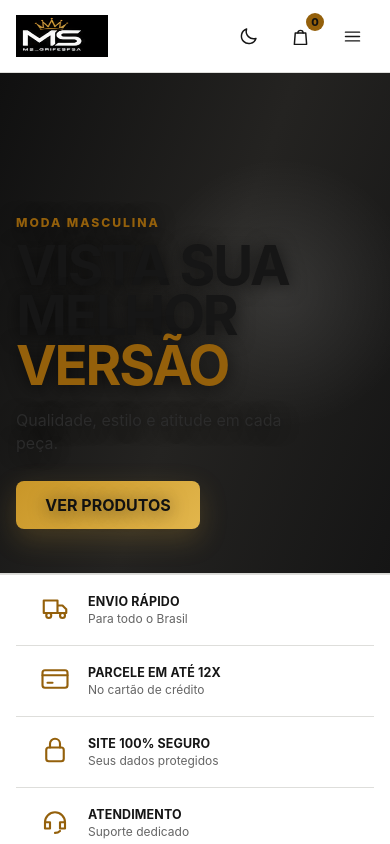
Test case: App › fecha o menu móvel pelo backdrop
Click the button named "Abrir menu" at (352, 36), box [330,14,374,58]
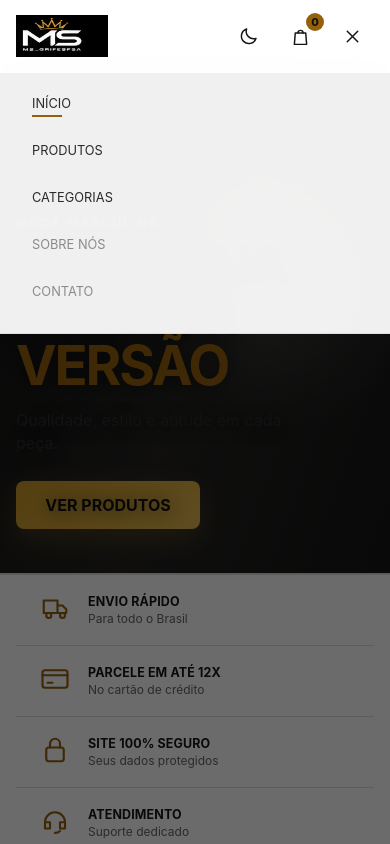
Click the 2nd button named "Fechar menu" at (195, 458), box [0,72,389,843]
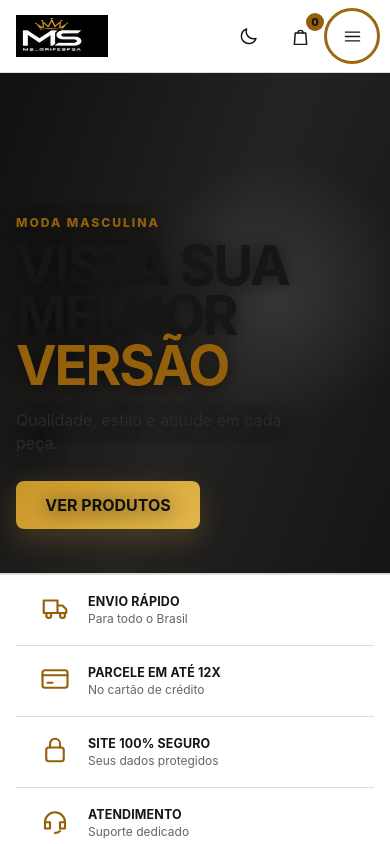
Check: the button named "Abrir menu" is collapsed, box [330,14,374,58]
